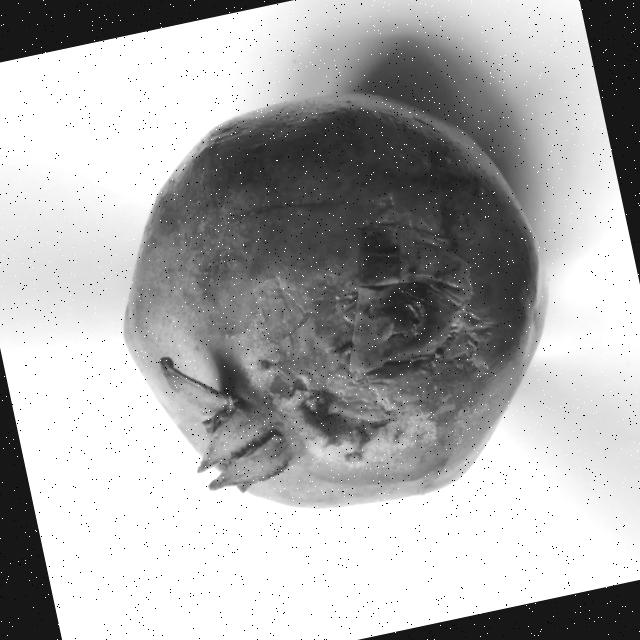Rotten: (78, 47, 590, 554)
